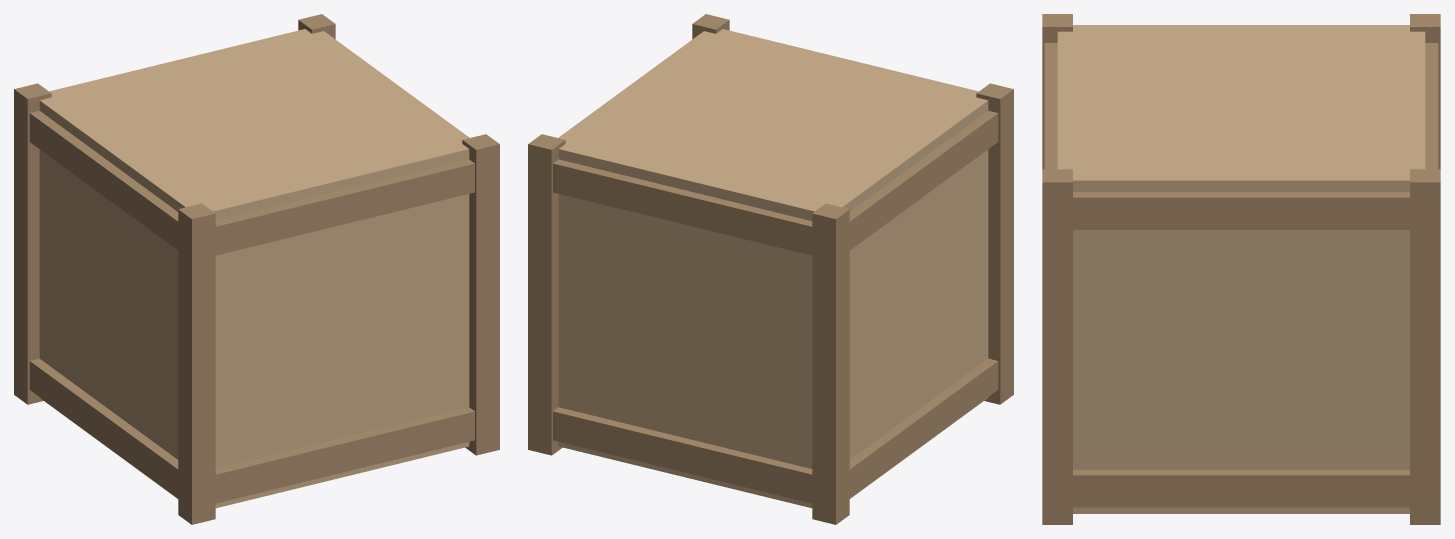
The model's file is Obs3_Crate.fbx.
The picture shows the model from 3 angles, left to right: view 1: azimuth 30°, elevation 25°; view 2: azimuth 150°, elevation 25°; view 3: azimuth 270°, elevation 25°; orthographic projection. The views are drawn at different scales.
Visible parts, largest first — view 1: Obs3_Crate; view 2: Obs3_Crate; view 3: Obs3_Crate.
Boxes of the visible parts, <box> form: Obs3_Crate: <box>14,14,499,524</box>; Obs3_Crate: <box>528,14,1013,524</box>; Obs3_Crate: <box>1042,14,1440,524</box>.
Bounding box in the file's own units: 0.78 × 0.74 × 0.78.
